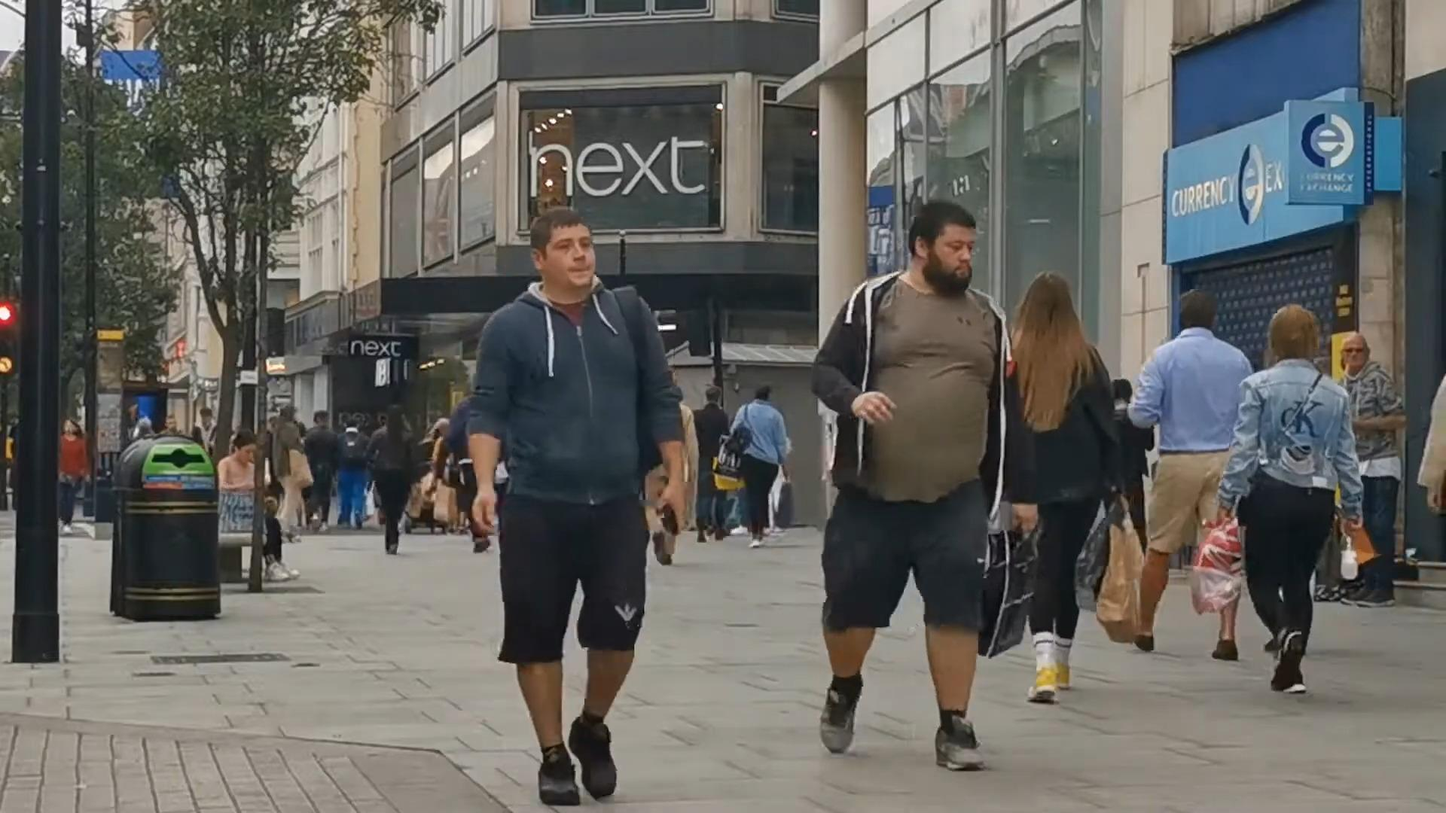no-helmet: (908, 200, 976, 297), (530, 207, 595, 290), (1015, 271, 1080, 327), (1268, 302, 1320, 362), (1179, 288, 1219, 329), (1340, 334, 1370, 368), (233, 428, 256, 464), (386, 403, 403, 433), (754, 383, 771, 402)
